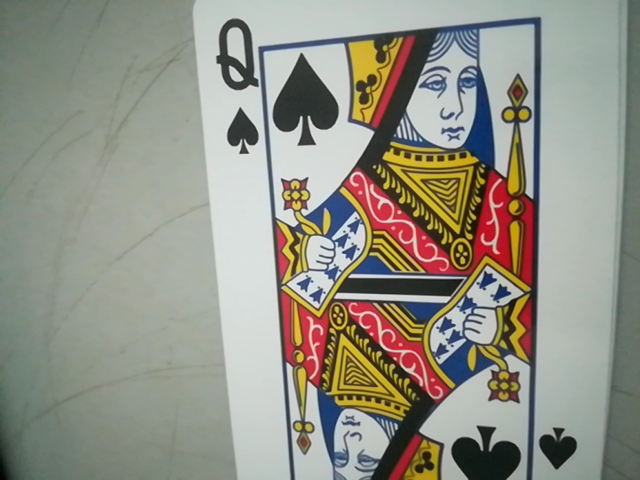ht q: (204, 9, 274, 159)
